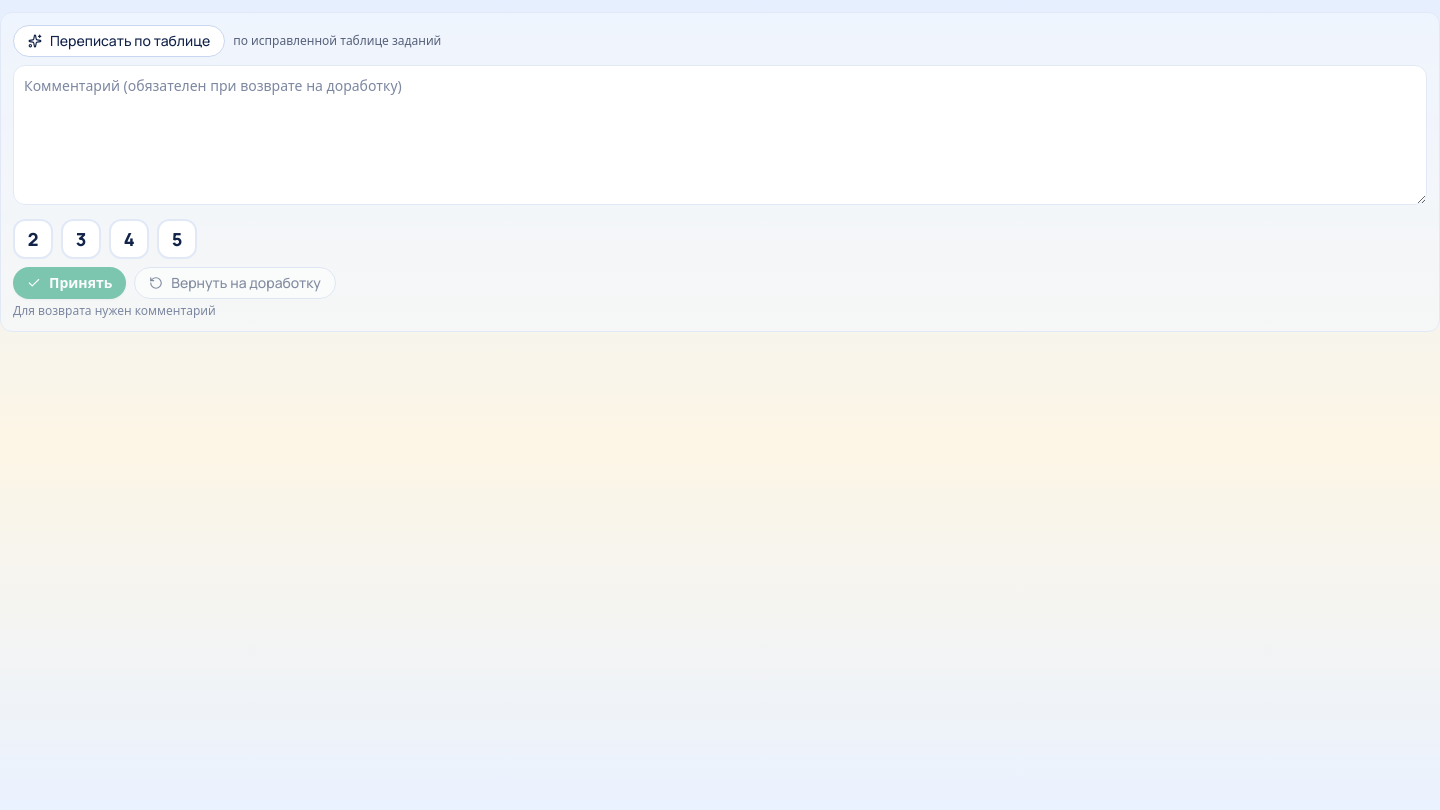
Test case: §213 — результат предложением, а не подменой › «Отмена» не трогает поле и убирает предложение
Type "Мой текст" into the text box with test id "review-comment-input" at (720, 135), box top-left (13, 65), bottom-right (1427, 205)
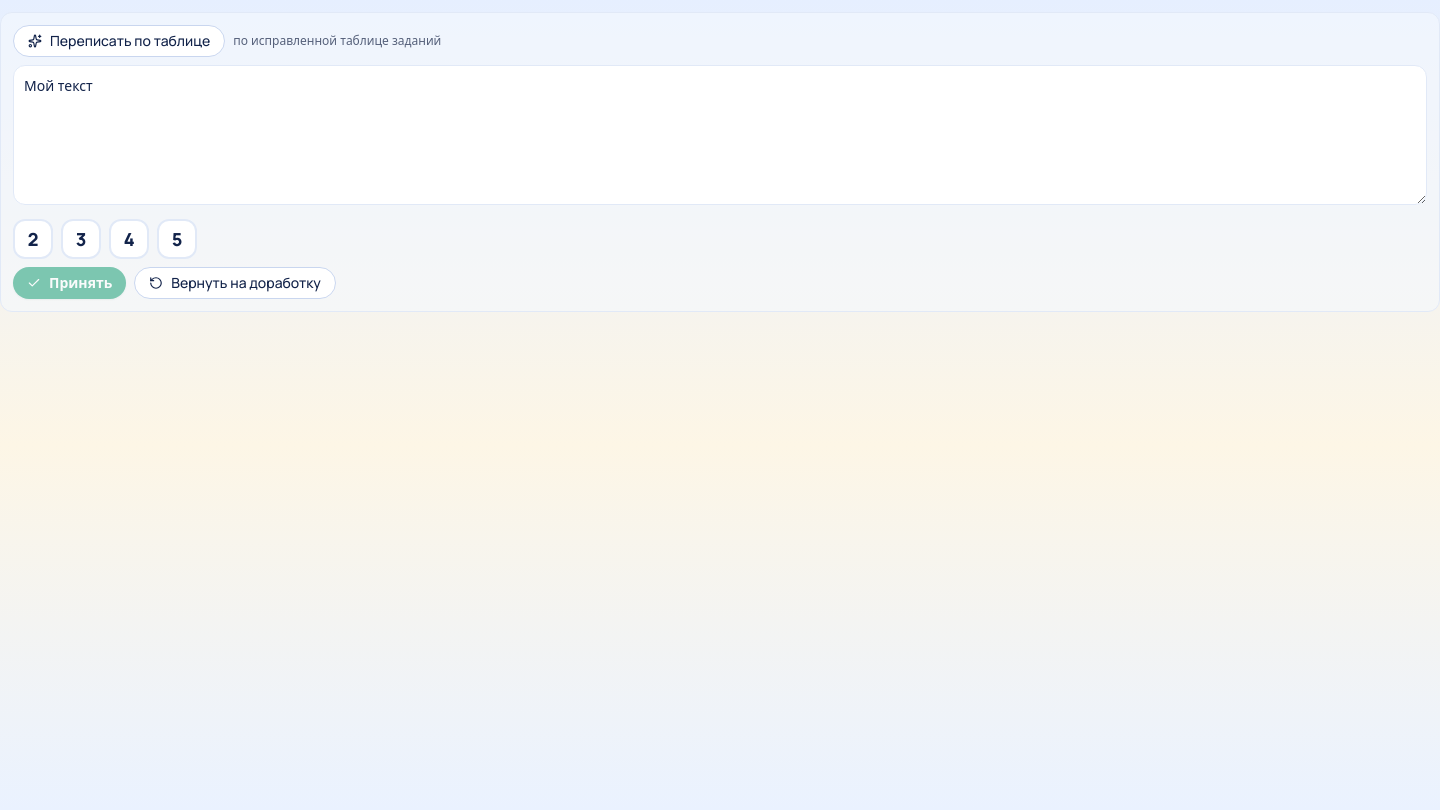
Click the button with test id "review-rewrite-button" at (119, 41), box top-left (13, 25), bottom-right (225, 57)
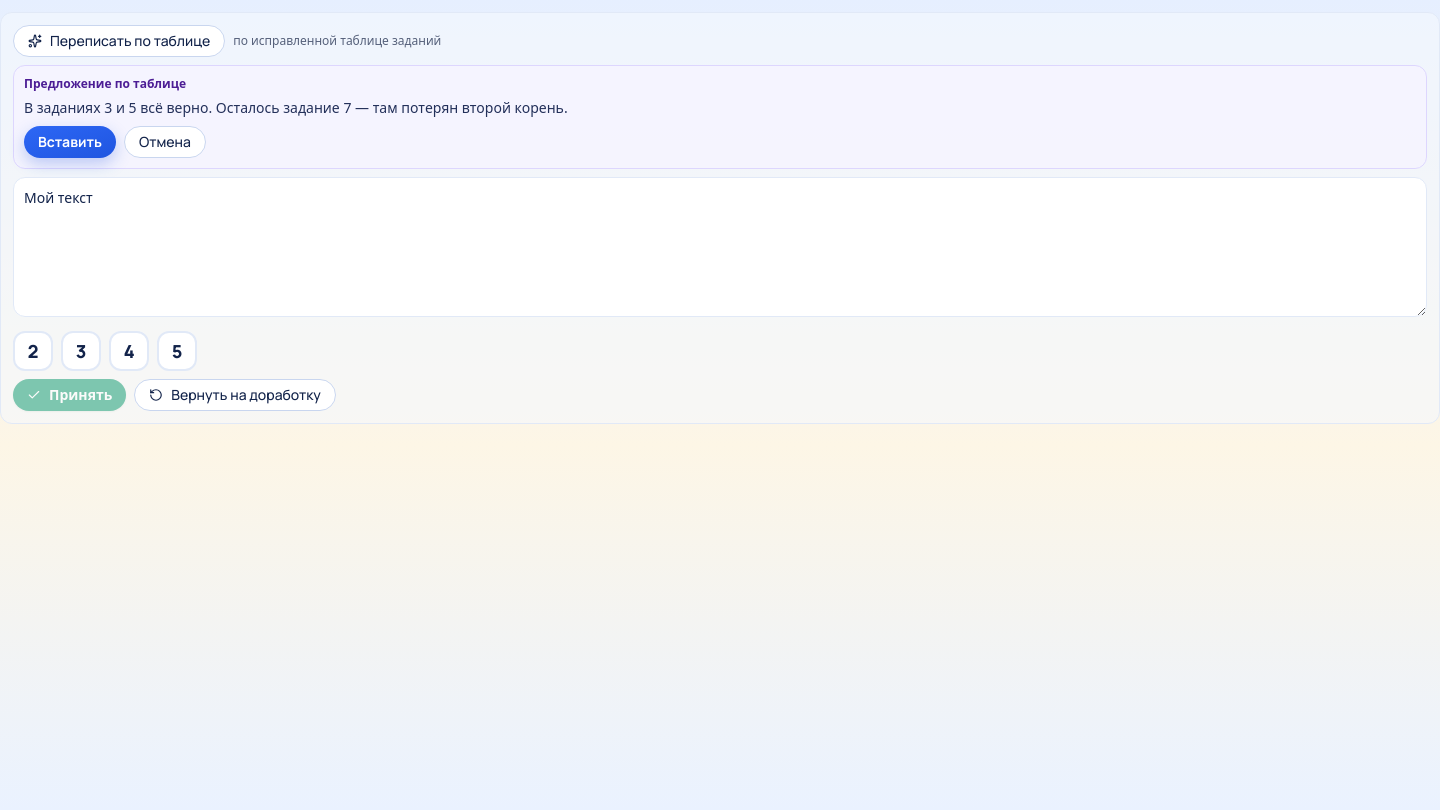
Result: the element with test id "review-rewrite-suggestion" is shown at top-left (13, 65), bottom-right (1427, 169)
Click the button with test id "review-rewrite-cancel" at (165, 142), box top-left (124, 126), bottom-right (206, 158)
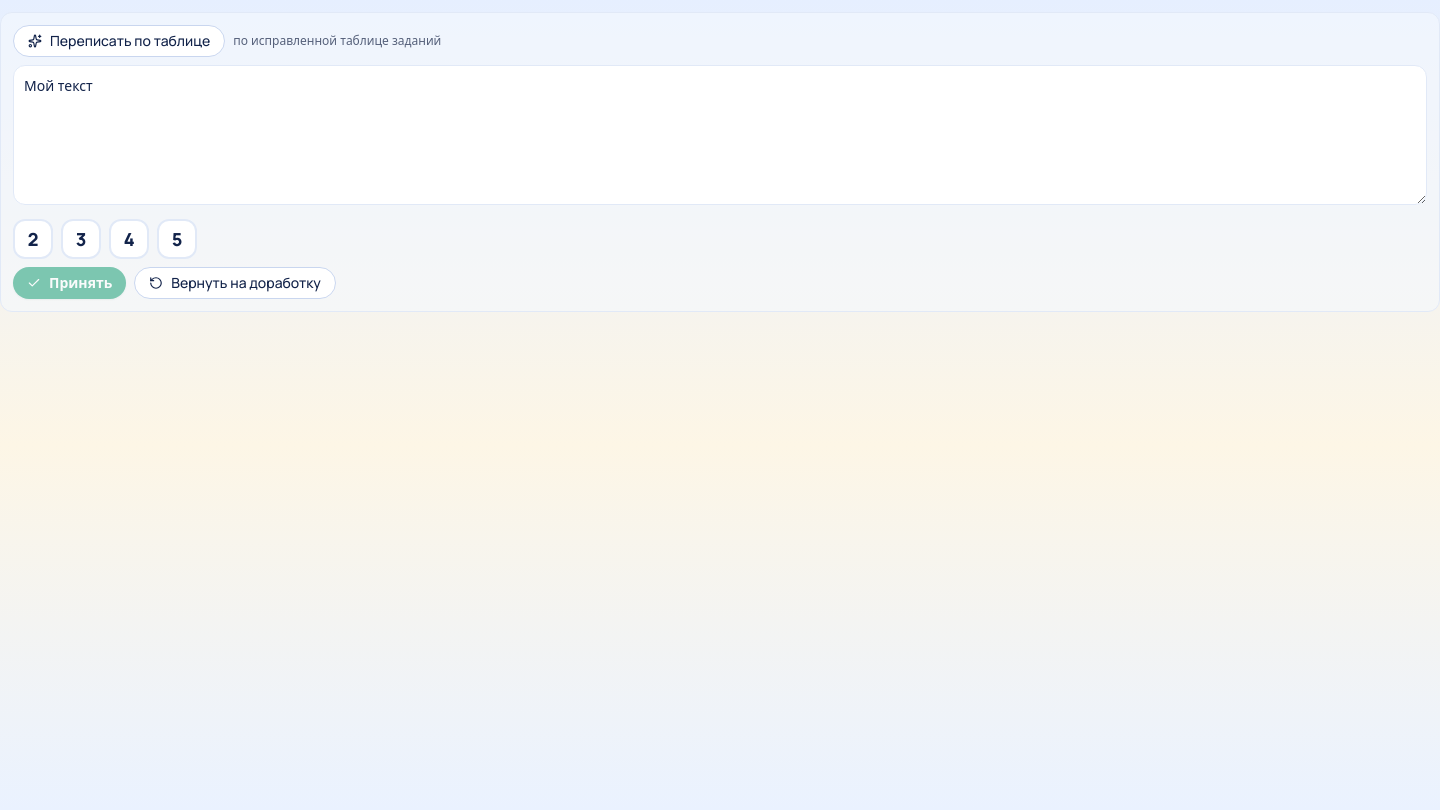
Result: the element with test id "review-rewrite-suggestion" is gone
